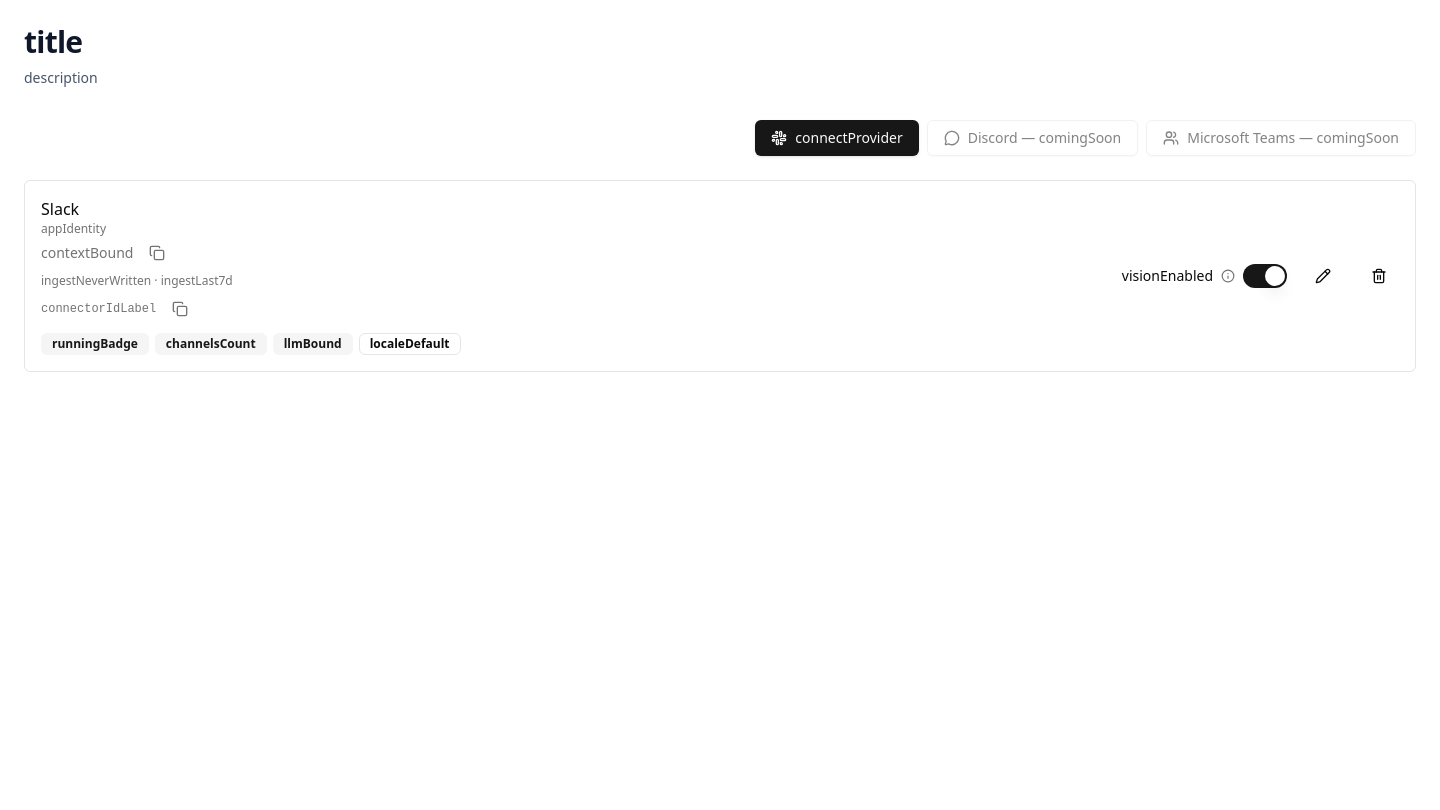
ConnectorsPage RBAC gate › does not claim unverified when the whole list is loaded (#1451)
Check: the button "connectProvider" is shown, box [755,120,919,156]
Click the button named "editSettings" at (1323, 276), box [1303,260,1343,292]
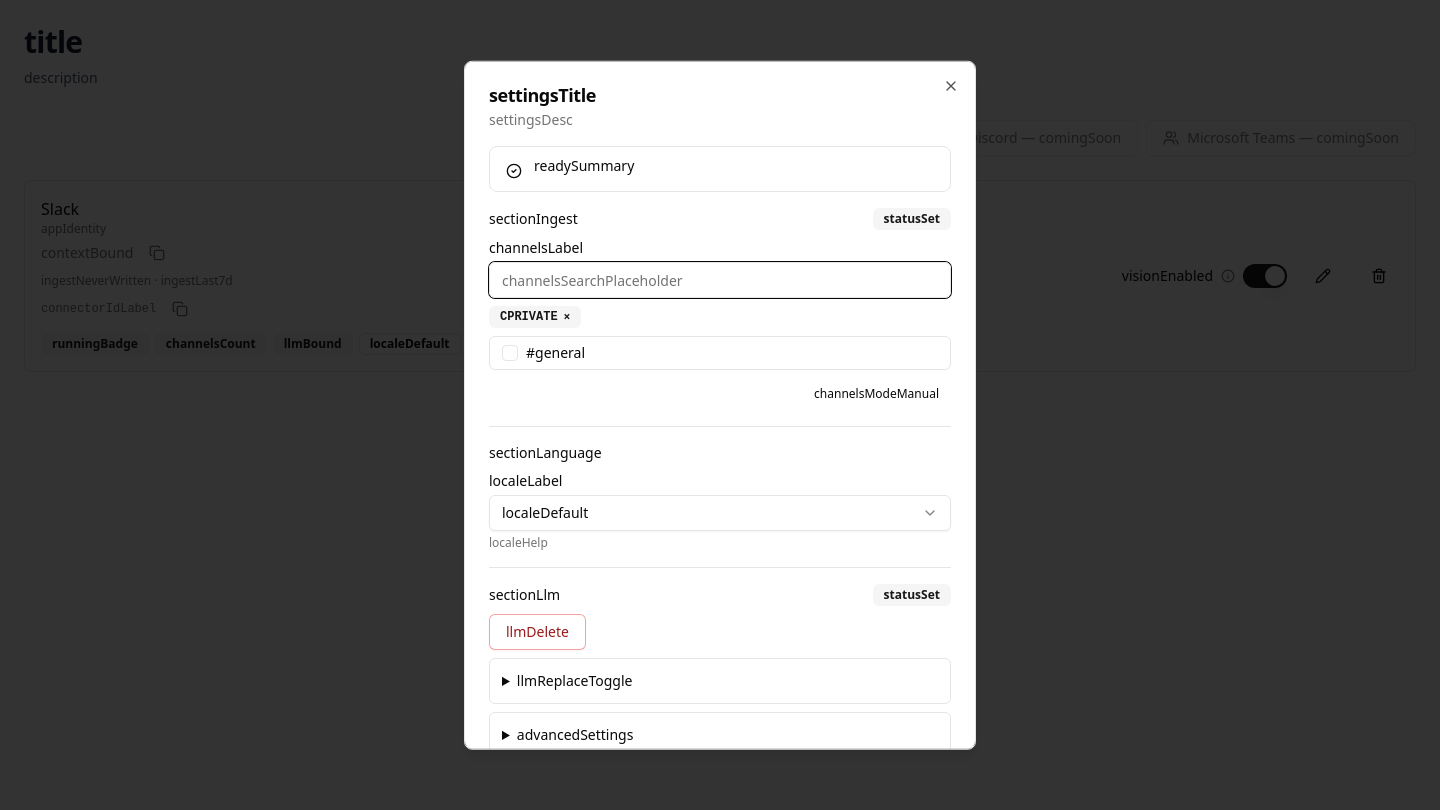
Check: the text "CPRIVATE" is shown, box [500,309,558,325]
